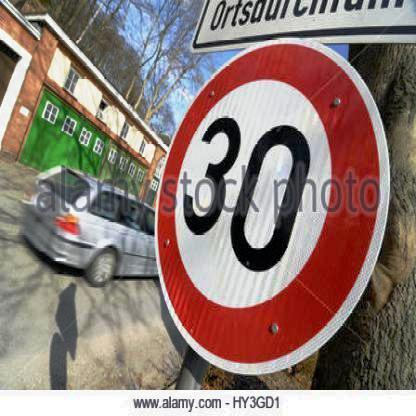Speed Limit -30-: (154, 32, 391, 376)
